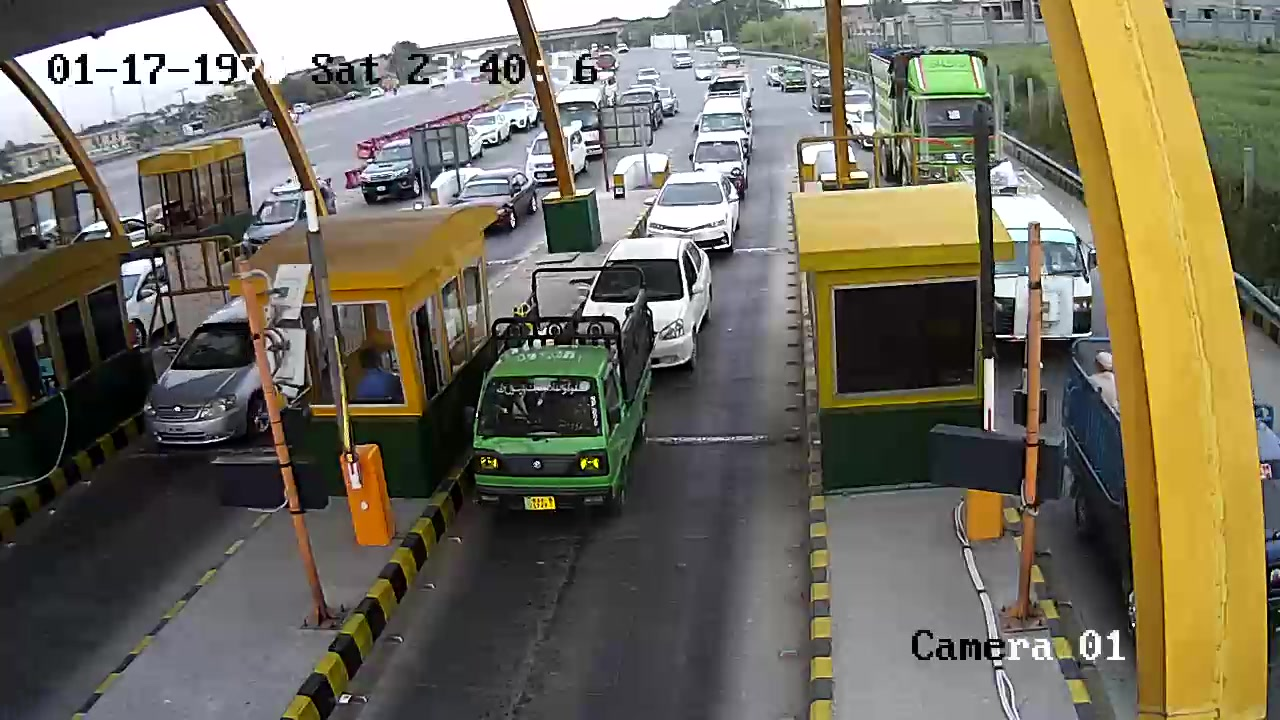F1: (468, 259, 655, 527)
